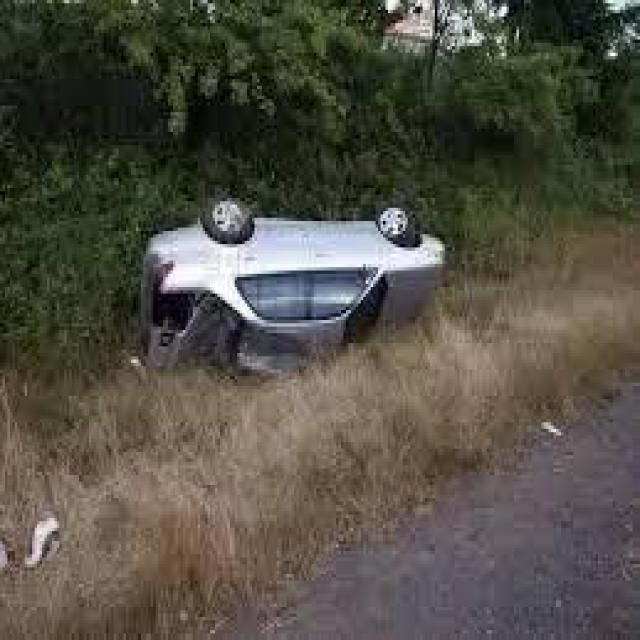severe: (134, 185, 443, 376)
